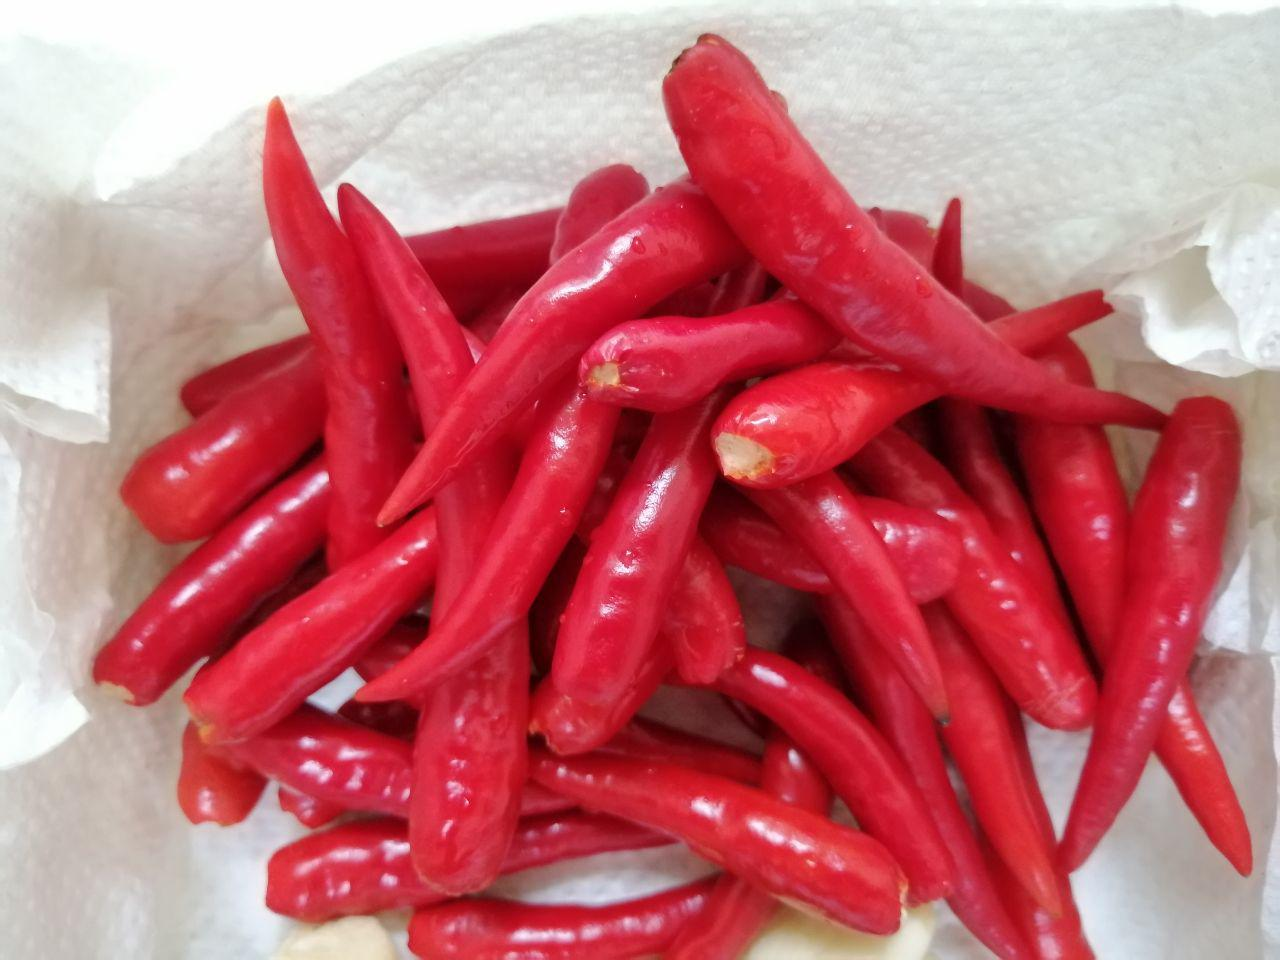lada merah: (646, 24, 1178, 467), (350, 152, 684, 728), (1018, 330, 1271, 889), (384, 174, 774, 517), (1047, 378, 1269, 906), (494, 712, 921, 952), (712, 617, 978, 918), (256, 100, 410, 611), (87, 462, 344, 718), (765, 455, 978, 740), (119, 327, 325, 547), (200, 683, 456, 828), (405, 875, 743, 960)
